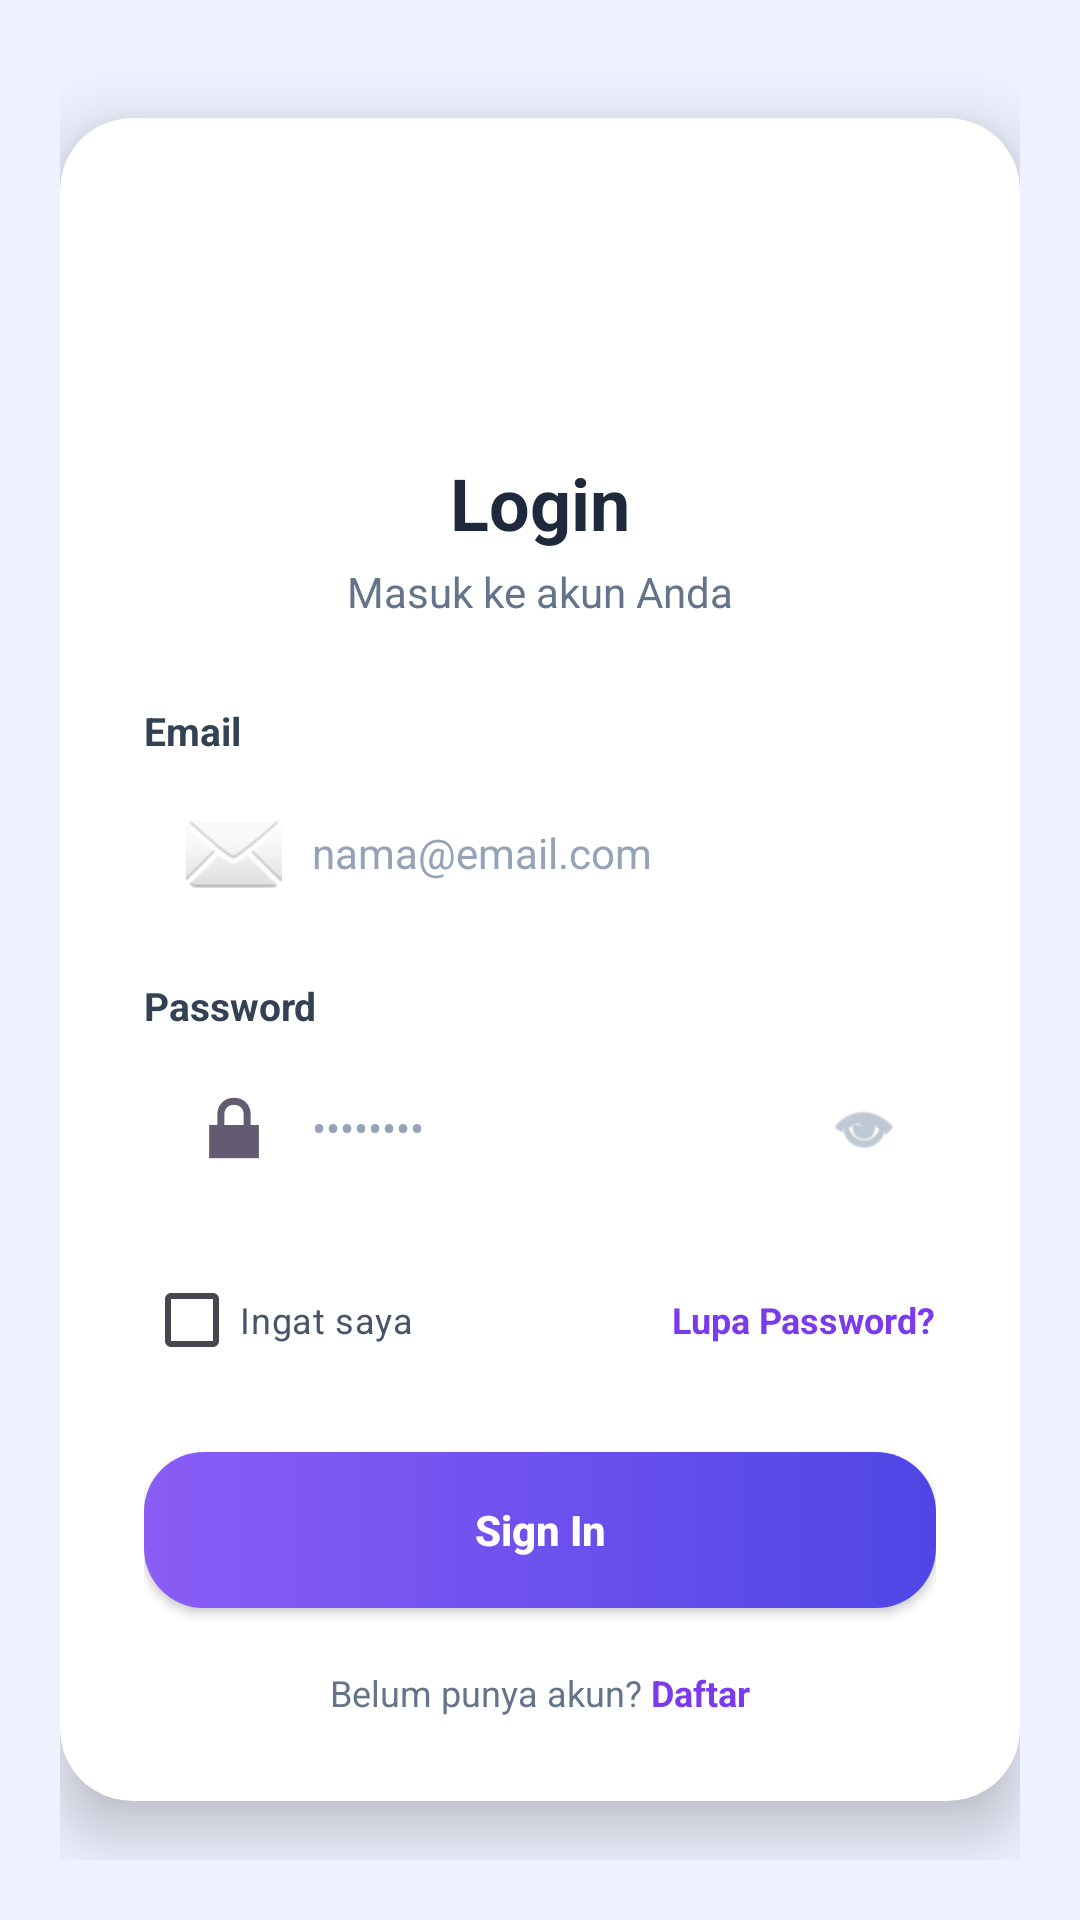

Icon click points for this 1080 × 1920 phone screenshot, format point (x, y):
view: point (864, 1130)
